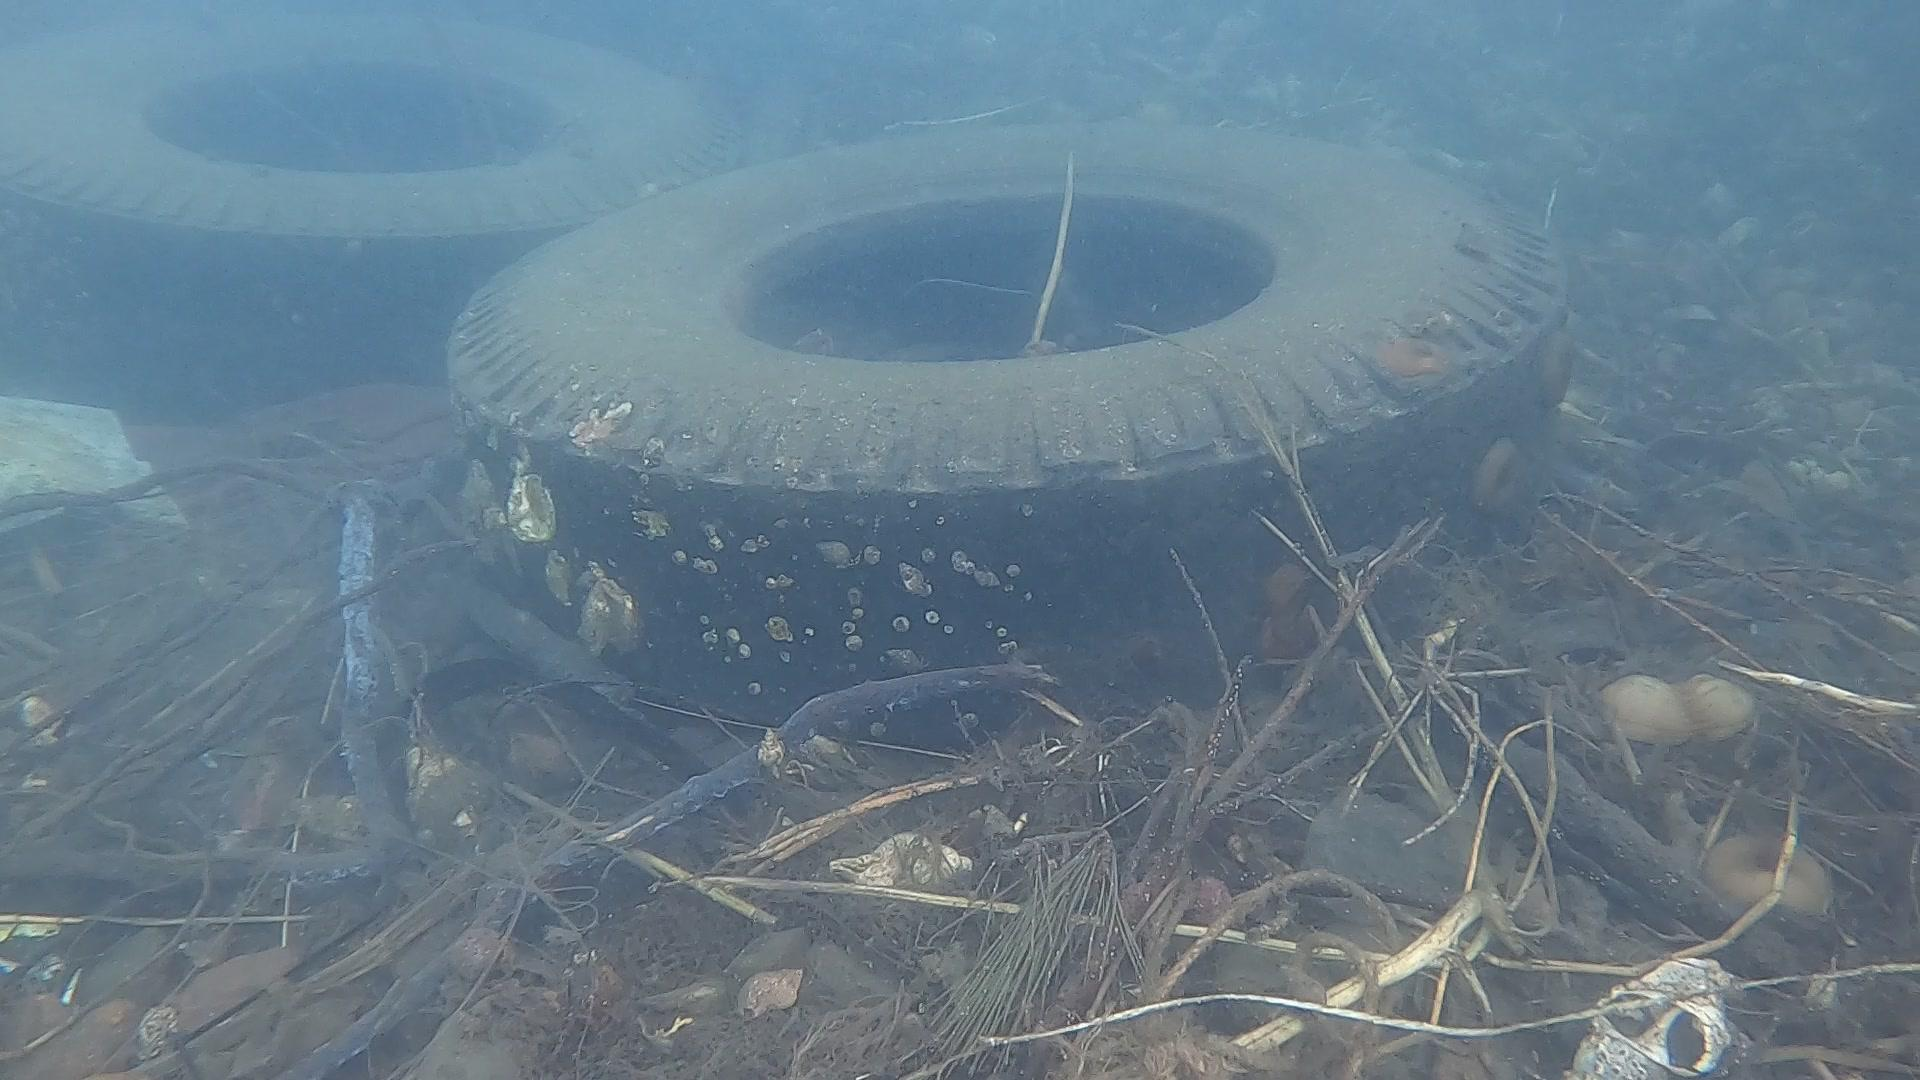tire: (444, 109, 1575, 709)
